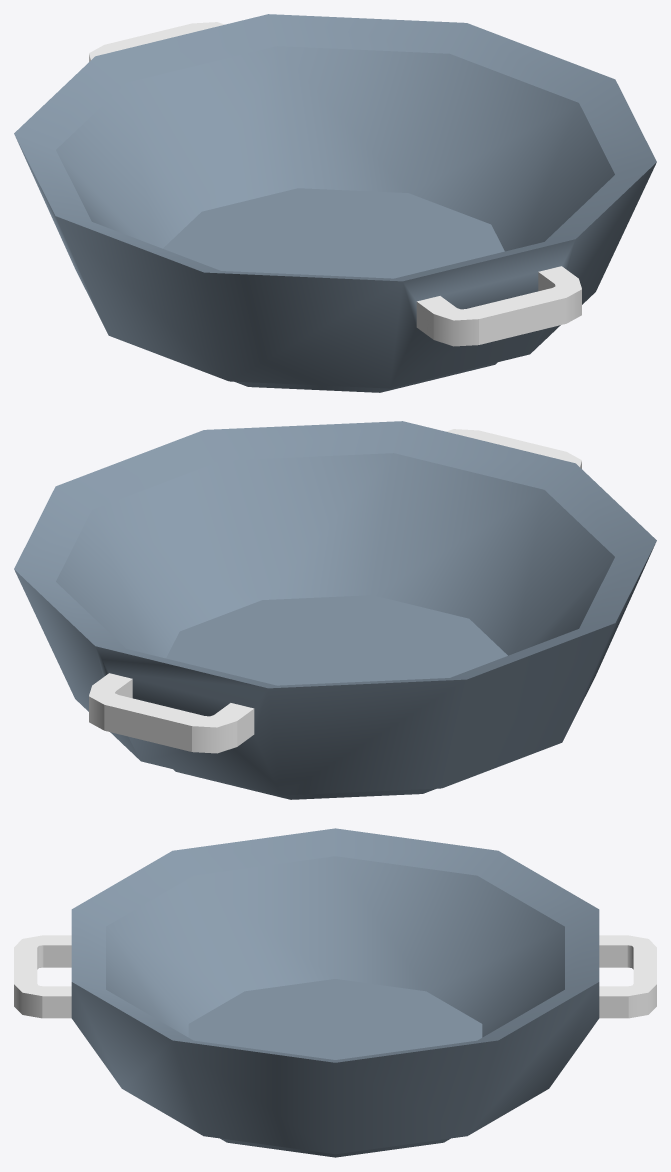
File: pan.obj
The picture shows the model from 3 angles, top to bottom: view 1: azimuth 30°, elevation 25°; view 2: azimuth 150°, elevation 25°; view 3: azimuth 270°, elevation 25°; orthographic projection. The views are drawn at different scales.
Parts seen in each view (by area): view 1: pan; view 2: pan; view 3: pan.
Part boxes in pixels (x1,y1,x2,y2): pan: [14, 14, 656, 392]; pan: [14, 421, 656, 799]; pan: [14, 828, 656, 1157].
Size of the model in its own units: 0.6574 by 0.1753 by 0.7621.
